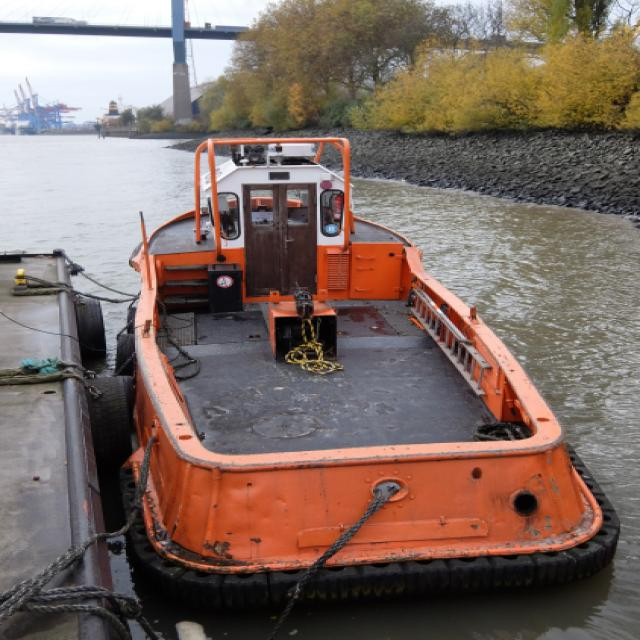tugboat: (111, 130, 631, 597)
